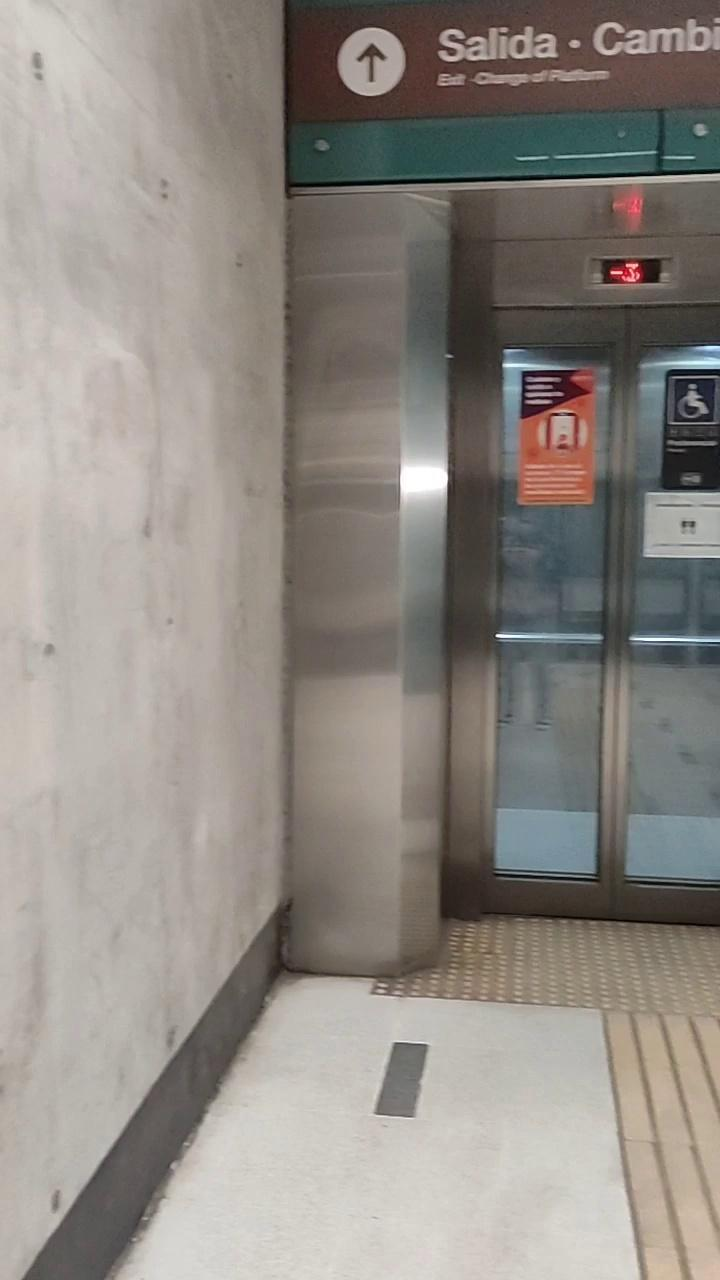handicapped symbol: (677, 382, 710, 418)
up arrow: (355, 41, 387, 84)
